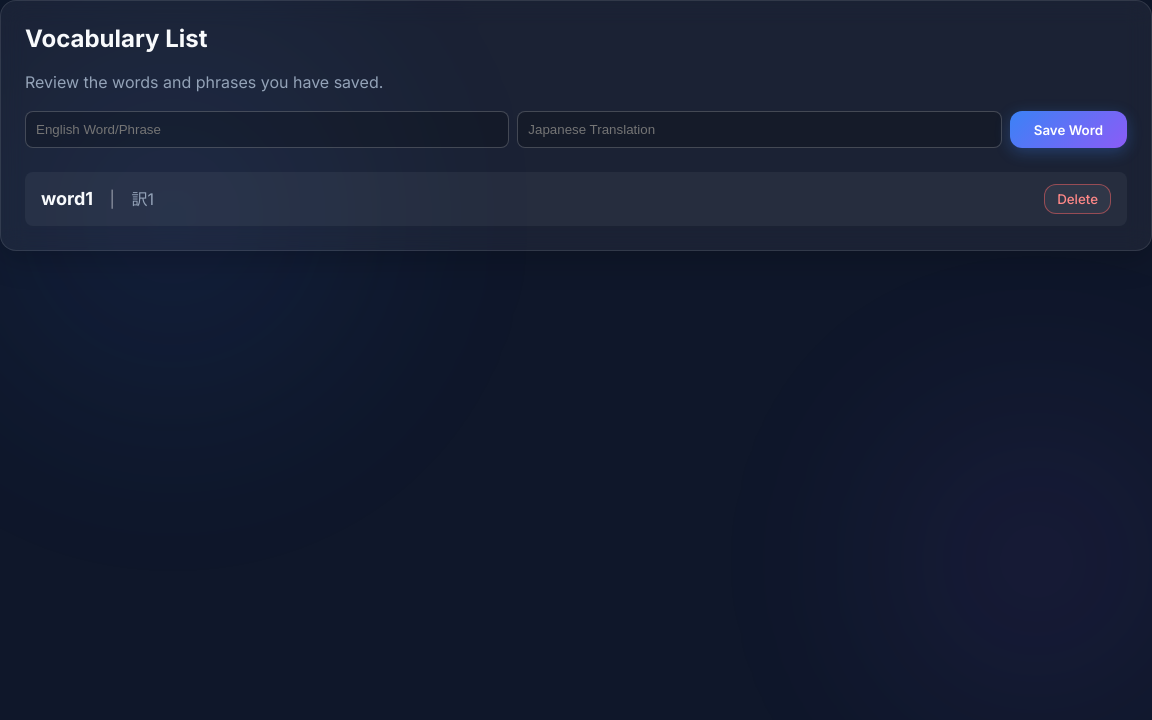
Test: VocabularyManager Component › saves new vocabulary word and translation
The width and height of the screenshot is (1152, 720).
Expected: the text "word1" is shown, [41,188,93,209]
In the field with placeholder "English Word/Phrase": coordinates (267, 130) [25,111,509,148], type "lucrative"
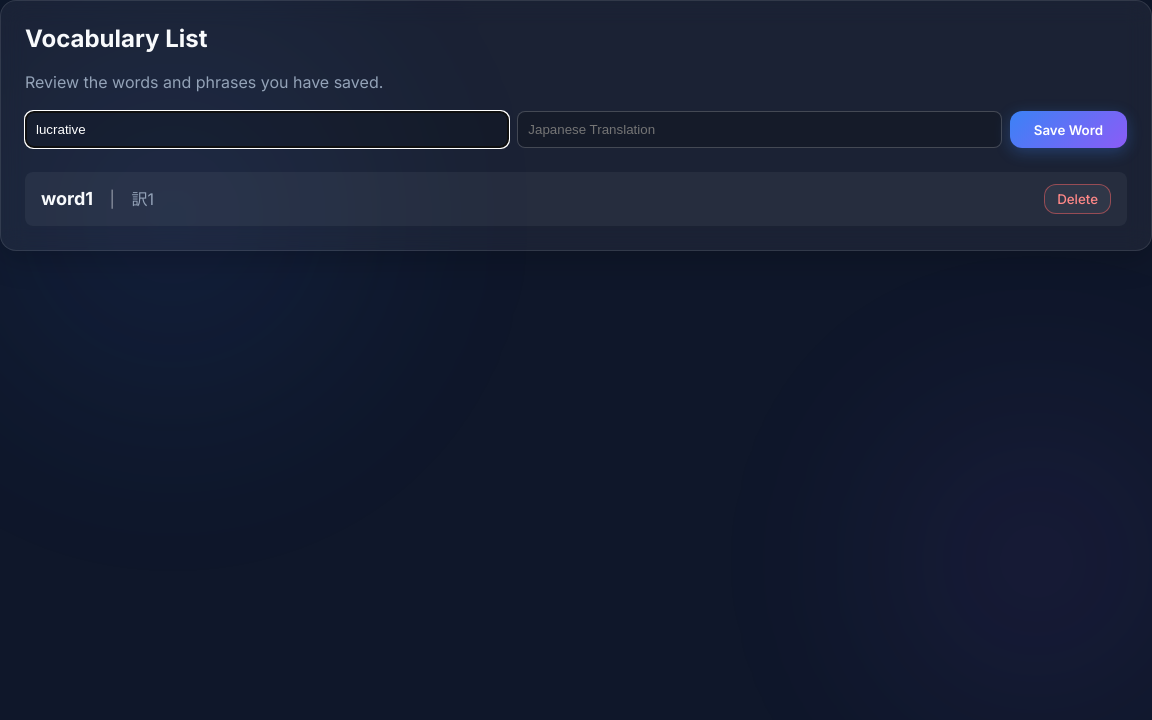
In the field with placeholder "Japanese Translation": coordinates (760, 130) [517,111,1002,148], type "利益の上がる"
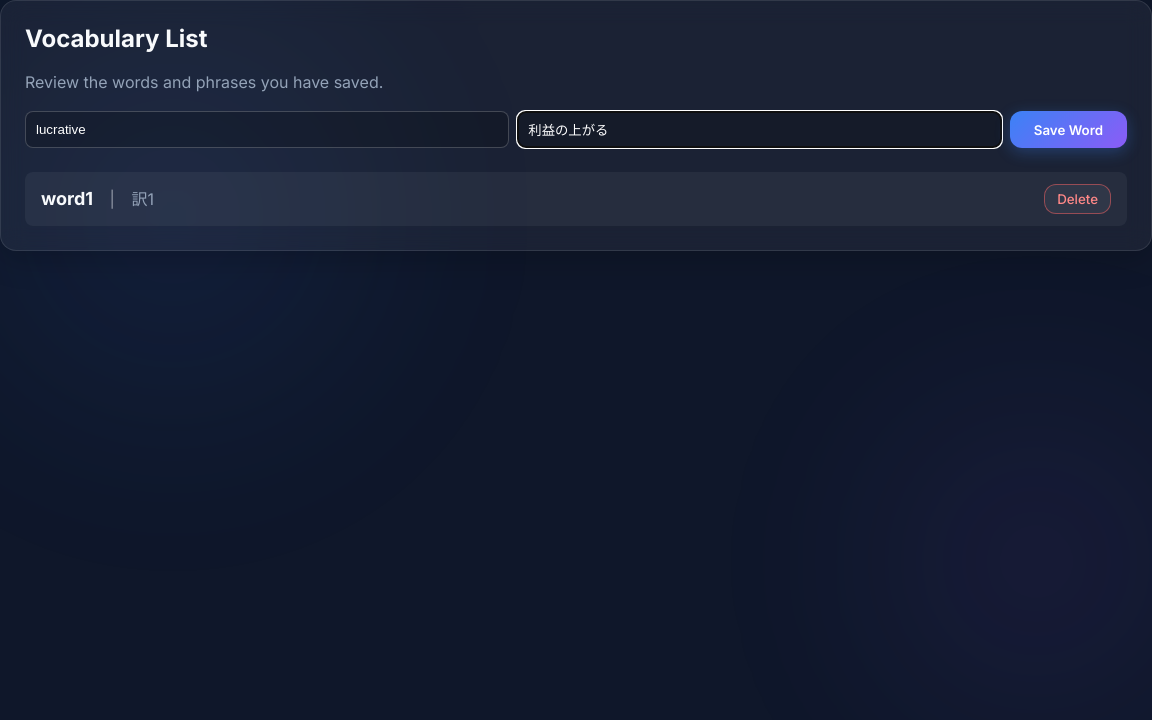
Click the button "Save Word": coordinates (1068, 130) [1010,111,1127,148]
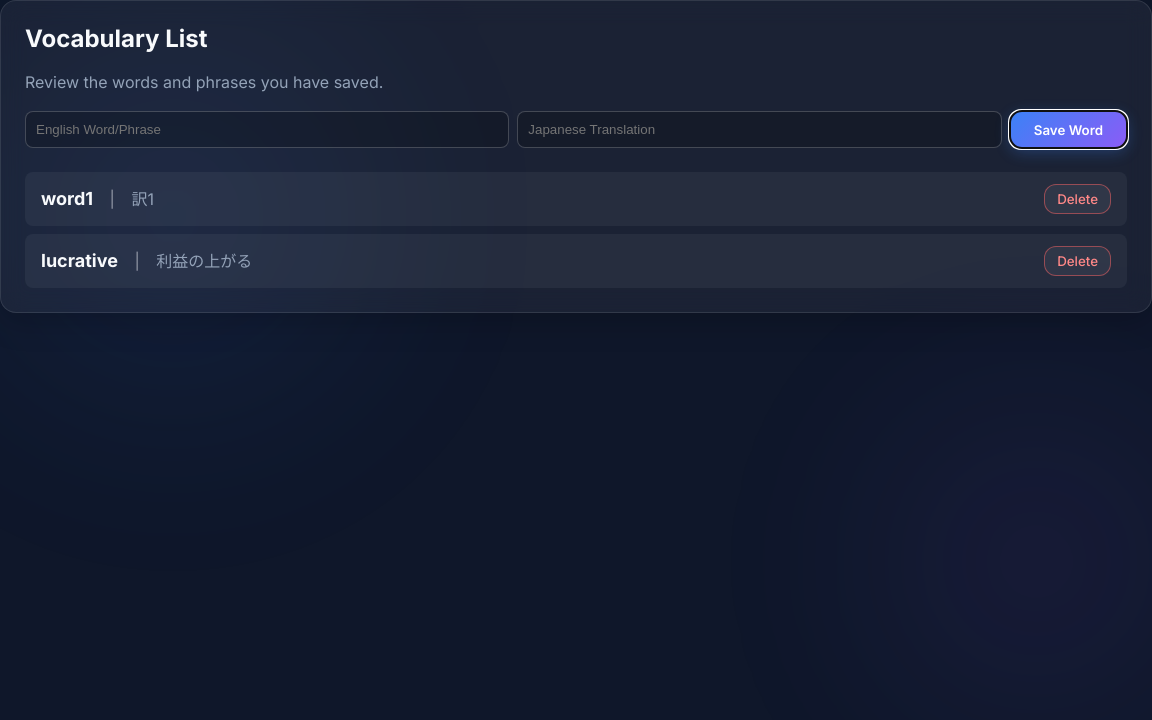
Result: the text "lucrative" is shown at [41,250,118,271]
Result: the text "利益の上がる" is shown at [156,251,252,271]
Result: the field with placeholder "English Word/Phrase" is empty at [25,111,509,148]
